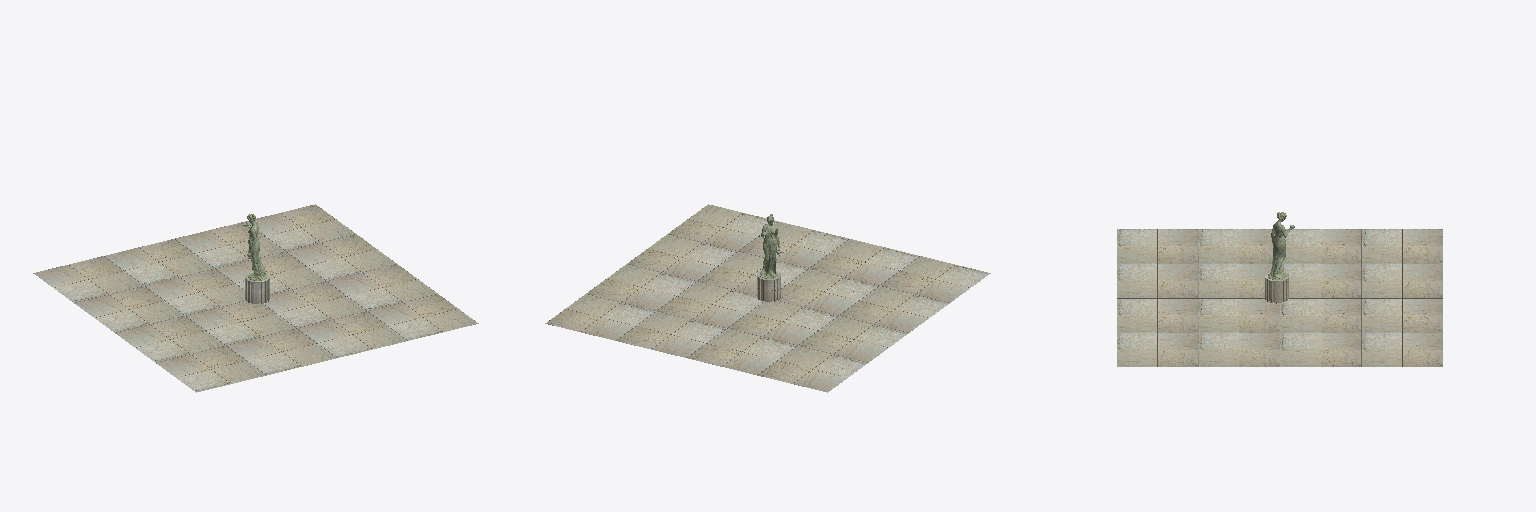
The picture shows the model from 3 angles: view 1: azimuth 30°, elevation 25°; view 2: azimuth 150°, elevation 25°; view 3: azimuth 270°, elevation 25°; orthographic projection.
Visible parts, largest first — view 1: statue; view 2: statue; view 3: statue.
Part boxes in pixels (bbox=[...]): statue: bbox=[33, 204, 478, 392]; statue: bbox=[545, 204, 990, 392]; statue: bbox=[1117, 212, 1442, 366].
Size of the model in its own units: 80 by 22.96 by 80.
Materials: 3 (2 with a texture image).